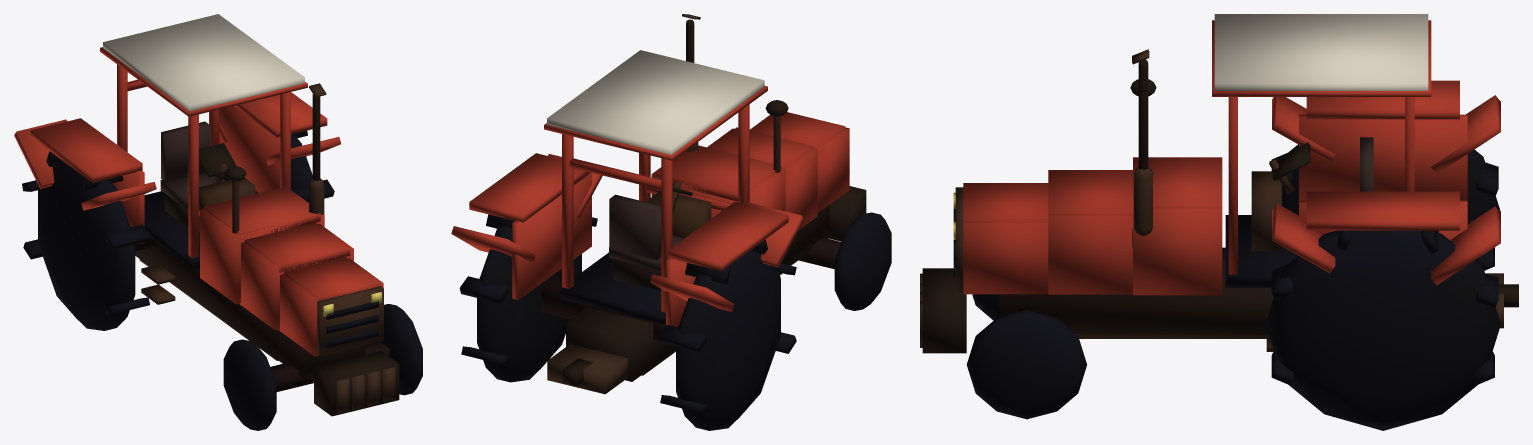
The model's file is tractor.glb.
3 views of the same model, side by side, from view 1: azimuth 30°, elevation 25°; view 2: azimuth 150°, elevation 25°; view 3: azimuth 270°, elevation 25° (orthographic). The views are drawn at different scales.
Parts seen in each view (by area): view 1: tractor; view 2: tractor; view 3: tractor.
Part boxes in pixels (x1,y1,x2,y2): tractor: (14, 14, 422, 430); tractor: (451, 14, 891, 430); tractor: (920, 14, 1518, 430).
Bounding box in the file's own units: 2.44 × 2.8 × 4.37.
